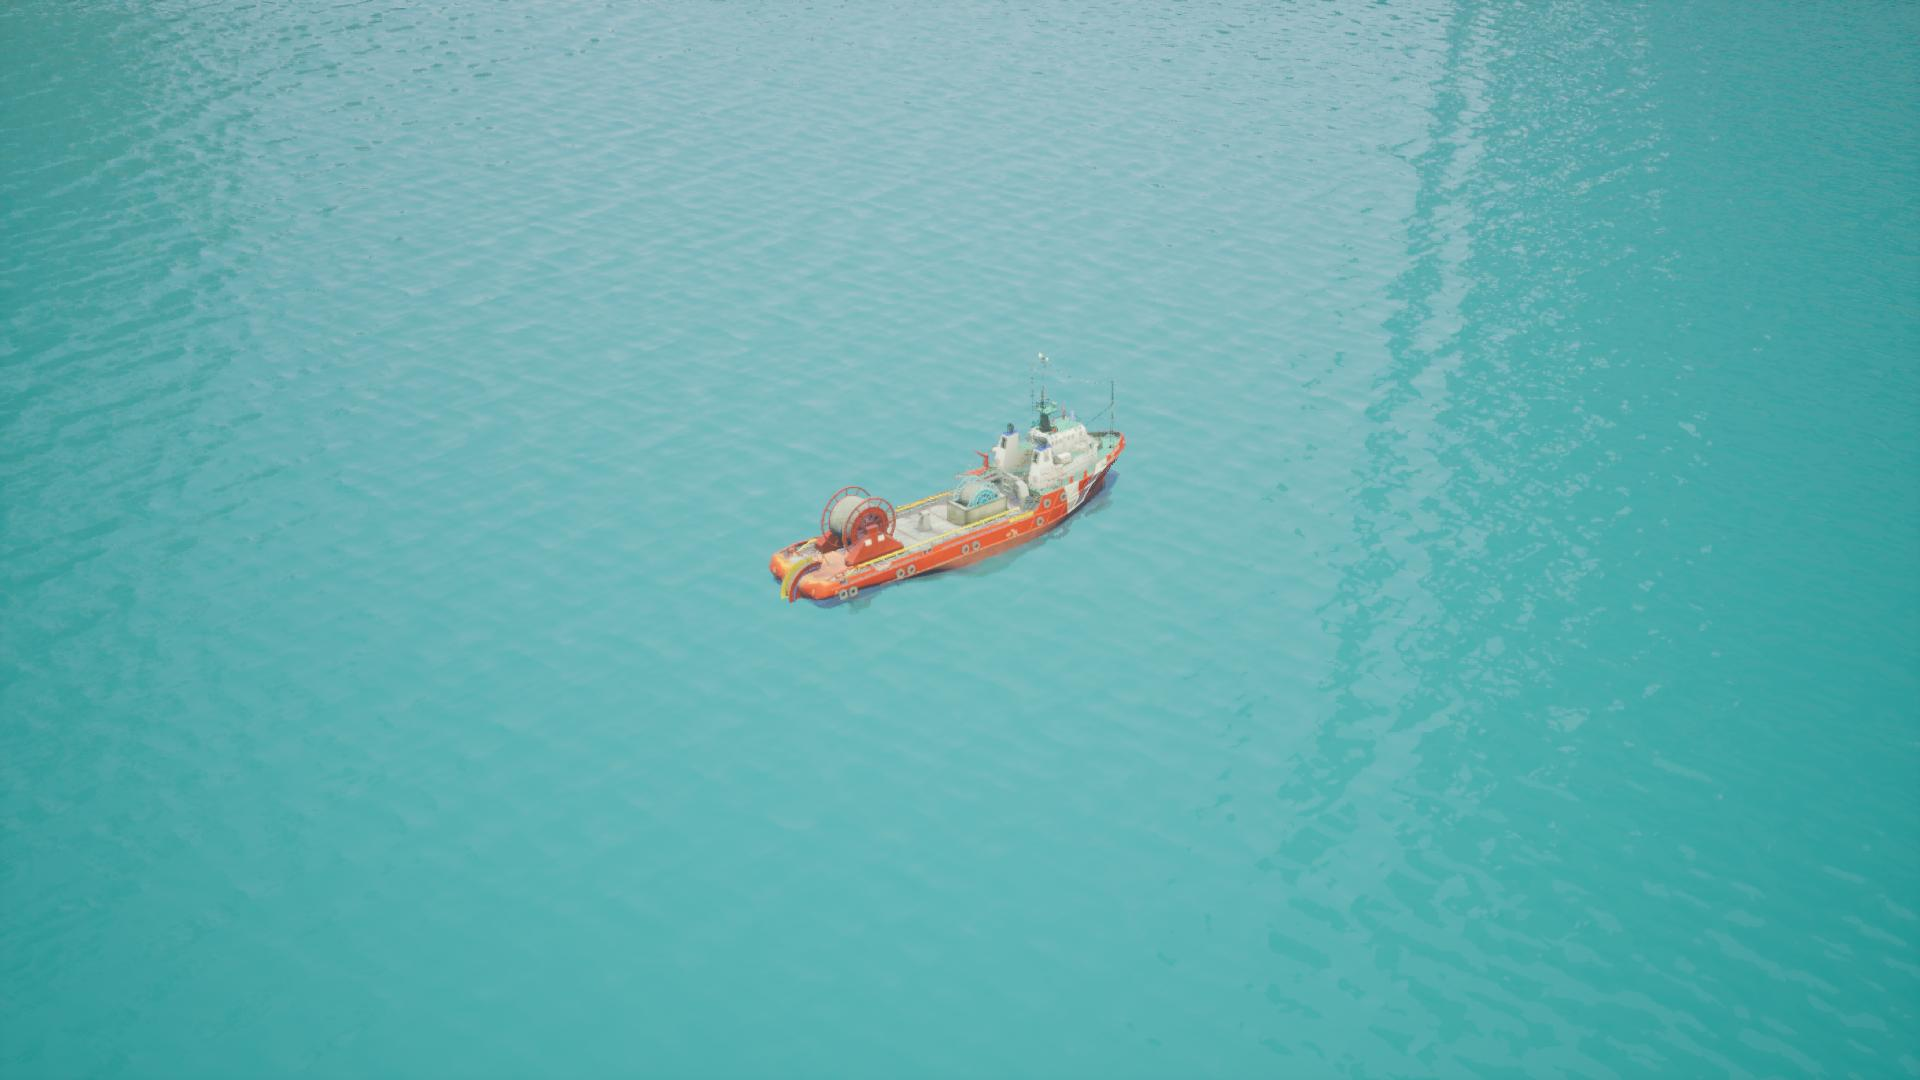Tug Boat: (774, 390, 1124, 608)
